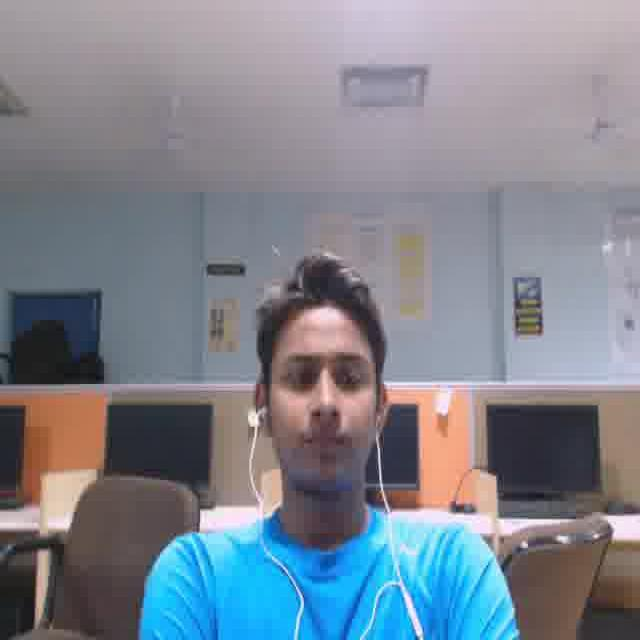Confusion: (266, 311, 372, 485)
